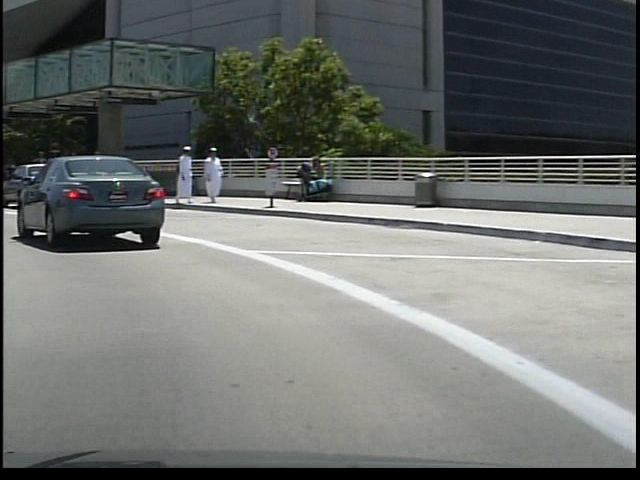person: (79, 145, 107, 215), (168, 141, 194, 209), (195, 144, 220, 205)
